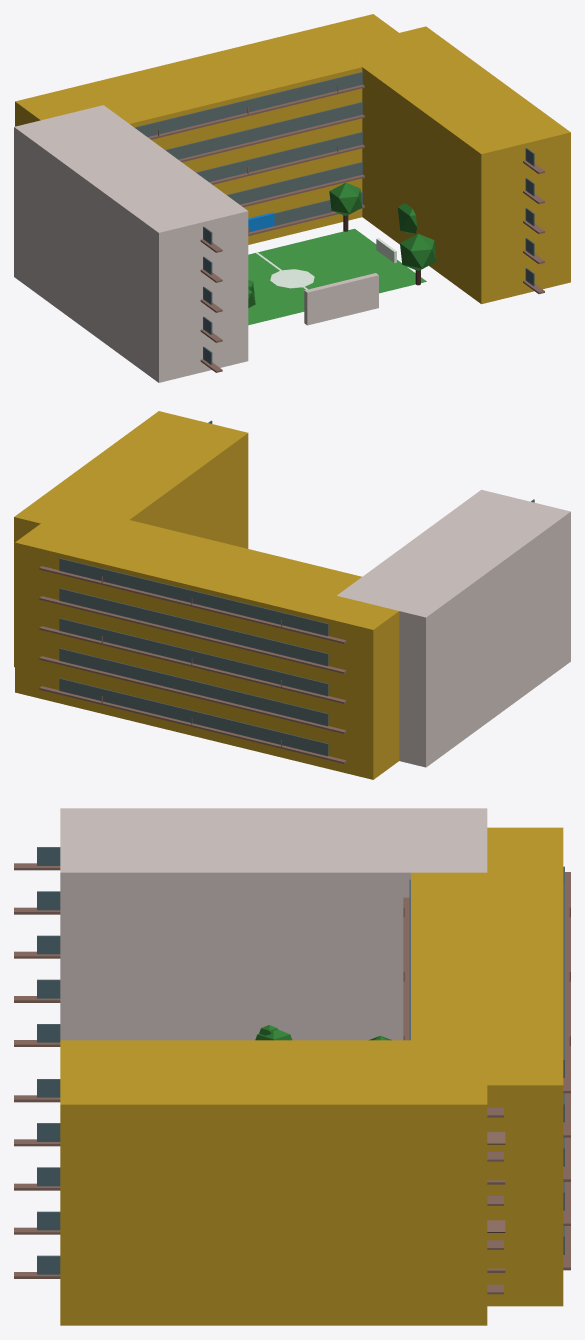
File: ktx_khu_a.glb
3 views of the same model, one above another, from view 1: azimuth 30°, elevation 25°; view 2: azimuth 150°, elevation 25°; view 3: azimuth 270°, elevation 25° (orthographic). The views are drawn at different scales.
Visible parts, largest first — view 1: KTXA_Left_Body, KTXA_Right_Body, KTXA_Back_Body, KTXA_Pitch, KTXA_Back_WinStrip_4_-1, KTXA_Gate, KTXA_Back_WinStrip_3_-1, KTXA_Back_WinStrip_2_-1, KTXA_Back_WinStrip_1_-1, KTXA_Canopy_1, KTXA_Back_Bal_4_-1, KTXA_Canopy_3 (+6 smaller); view 2: KTXA_Back_Body, KTXA_Left_Body, KTXA_Right_Body, KTXA_Back_WinStrip_1_1, KTXA_Back_WinStrip_3_1, KTXA_Back_WinStrip_2_1, KTXA_Back_WinStrip_4_1, KTXA_Back_WinStrip_0_1, KTXA_Back_Bal_3_1, KTXA_Back_Bal_1_1, KTXA_Back_Bal_0_1, KTXA_Back_Bal_2_1 (+1 smaller); view 3: KTXA_Right_Body, KTXA_Left_Body, KTXA_Back_Body, KTXA_Back_Bal_4_1, KTXA_Back_Bal_4_-1.
Boxes of the visible parts, x1,y1,x2,y2 form: KTXA_Left_Body: (14, 105, 248, 382); KTXA_Right_Body: (337, 26, 570, 304); KTXA_Back_Body: (15, 14, 398, 244); KTXA_Pitch: (248, 228, 426, 325); KTXA_Back_WinStrip_4_-1: (134, 72, 362, 136); KTXA_Gate: (304, 273, 378, 325); KTXA_Back_WinStrip_3_-1: (165, 102, 362, 159); KTXA_Back_WinStrip_2_-1: (196, 132, 362, 181); KTXA_Back_WinStrip_1_-1: (227, 162, 362, 204); KTXA_Canopy_1: (400, 233, 436, 270); KTXA_Back_Bal_4_-1: (147, 84, 364, 139); KTXA_Canopy_3: (329, 182, 362, 215); KTXA_Back_Body: (15, 520, 399, 779); KTXA_Left_Body: (337, 489, 570, 767); KTXA_Right_Body: (14, 411, 248, 667); KTXA_Back_WinStrip_1_1: (59, 648, 328, 726); KTXA_Back_WinStrip_3_1: (59, 588, 328, 666); KTXA_Back_WinStrip_2_1: (59, 618, 328, 696); KTXA_Back_WinStrip_4_1: (59, 558, 328, 636); KTXA_Back_WinStrip_0_1: (59, 678, 328, 756); KTXA_Back_Bal_3_1: (39, 596, 346, 673); KTXA_Back_Bal_1_1: (39, 656, 346, 733); KTXA_Back_Bal_0_1: (39, 686, 346, 763); KTXA_Back_Bal_2_1: (39, 626, 346, 703); KTXA_Right_Body: (60, 1040, 487, 1325); KTXA_Left_Body: (60, 808, 487, 1040); KTXA_Back_Body: (411, 827, 563, 1306); KTXA_Back_Bal_4_1: (563, 872, 570, 1093); KTXA_Back_Bal_4_-1: (403, 897, 409, 1040).
Bounding box in the file's own units: 46 × 16 × 36.55.
